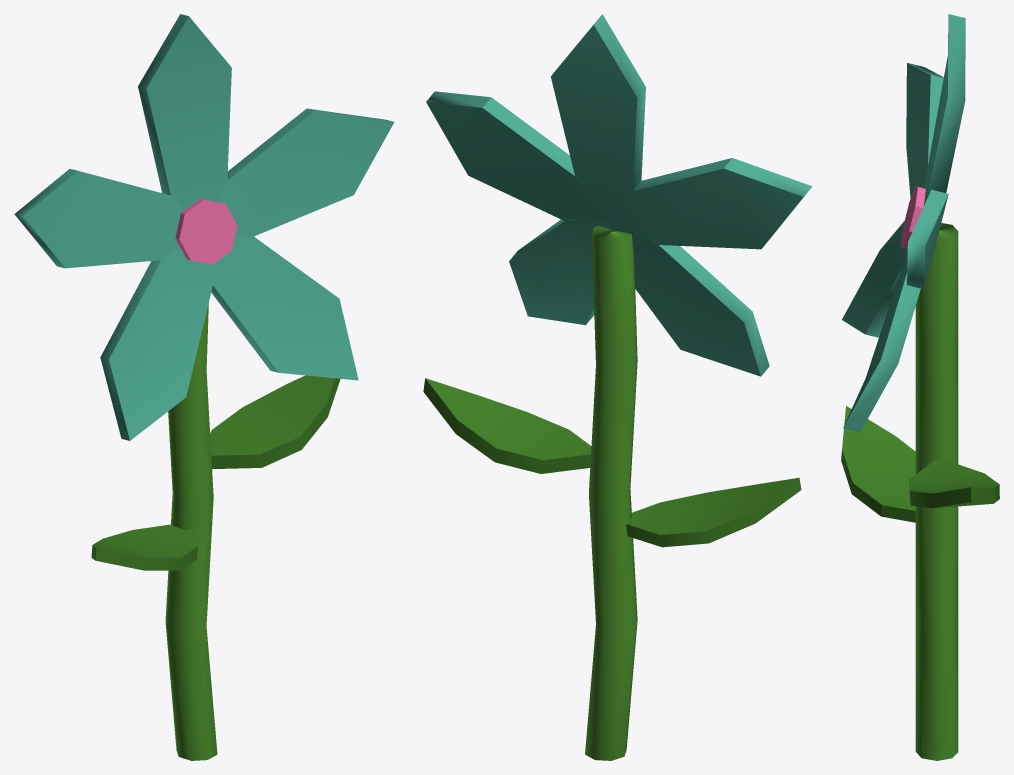
File: Flower_Turquoise_3.fbx
3 views of the same model, side by side, from view 1: azimuth 30°, elevation 25°; view 2: azimuth 150°, elevation 25°; view 3: azimuth 270°, elevation 25° (orthographic).
Parts seen in each view (by area): view 1: Cube.139, Cylinder.644, Plane.205, Plane.204, Cylinder.645; view 2: Cube.139, Cylinder.644, Plane.205, Plane.204; view 3: Cylinder.644, Cube.139, Plane.204, Plane.205, Cylinder.645.
Boxes of the visible parts, bbox=[...] form: Cube.139: bbox=[14, 14, 394, 440]; Cylinder.644: bbox=[165, 304, 217, 760]; Plane.205: bbox=[210, 375, 340, 468]; Plane.204: bbox=[91, 524, 197, 570]; Cylinder.645: bbox=[175, 198, 237, 264]; Cube.139: bbox=[426, 14, 812, 376]; Cylinder.644: bbox=[585, 226, 637, 760]; Plane.205: bbox=[423, 378, 591, 473]; Plane.204: bbox=[626, 477, 801, 547]; Cylinder.644: bbox=[915, 223, 958, 760]; Cube.139: bbox=[842, 14, 965, 432]; Plane.204: bbox=[841, 406, 915, 522]; Plane.205: bbox=[909, 460, 999, 508]; Cylinder.645: bbox=[900, 186, 925, 248].
Size of the model in its own units: 71.56 by 135 by 26.3.
